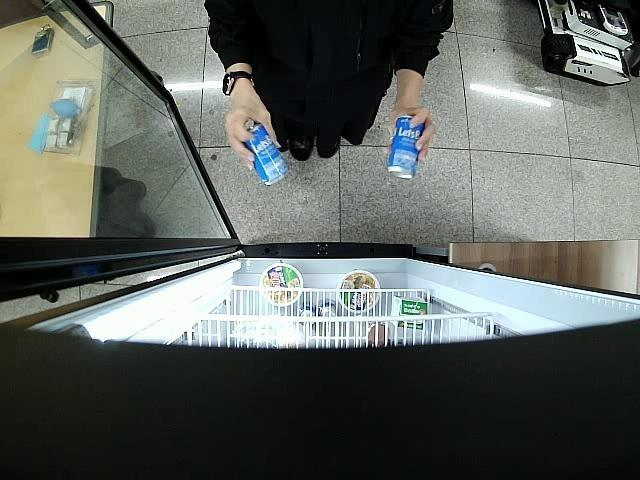15_letsbe: (242, 121, 290, 188), (386, 113, 424, 178)
